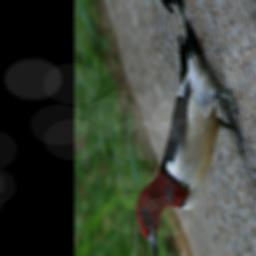Woodpecker: (97, 0, 256, 256)
